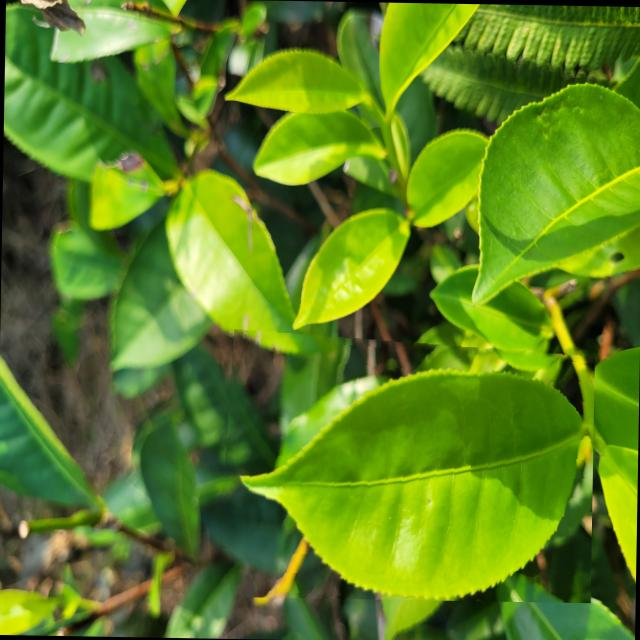Category B(2-4 days): (215, 327, 595, 602)
